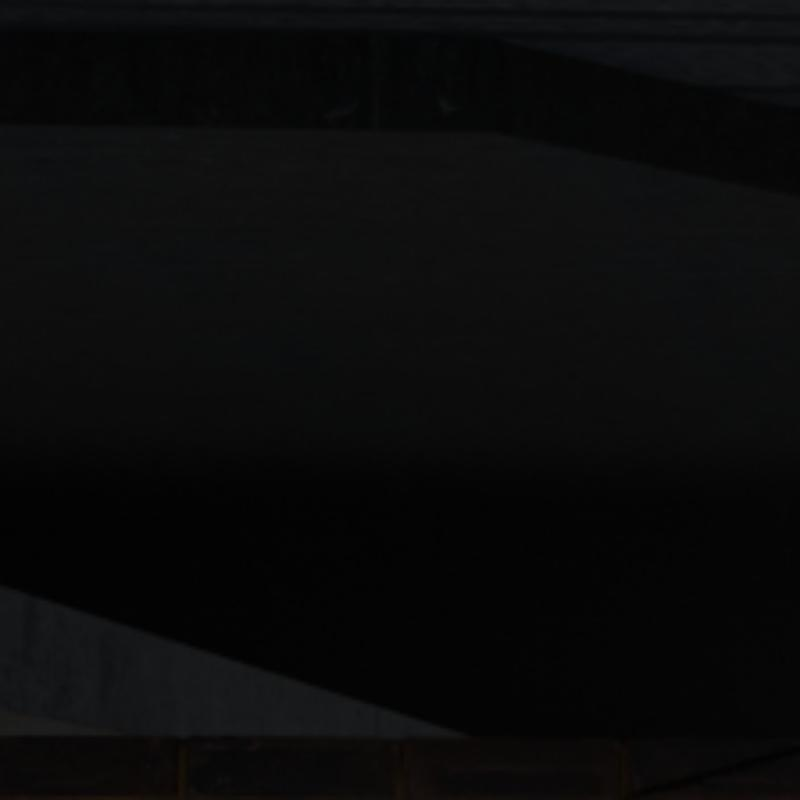pothole: (618, 746, 796, 796)
